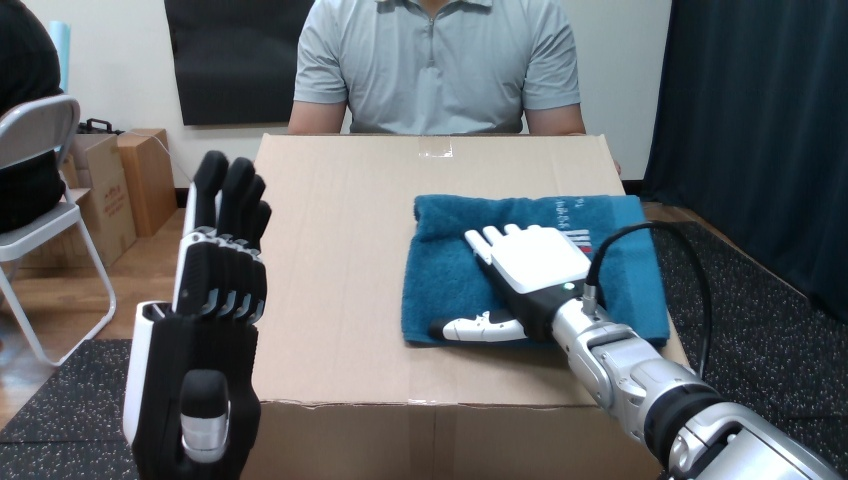left robot hand: (123, 151, 270, 478), (673, 221, 847, 478)
